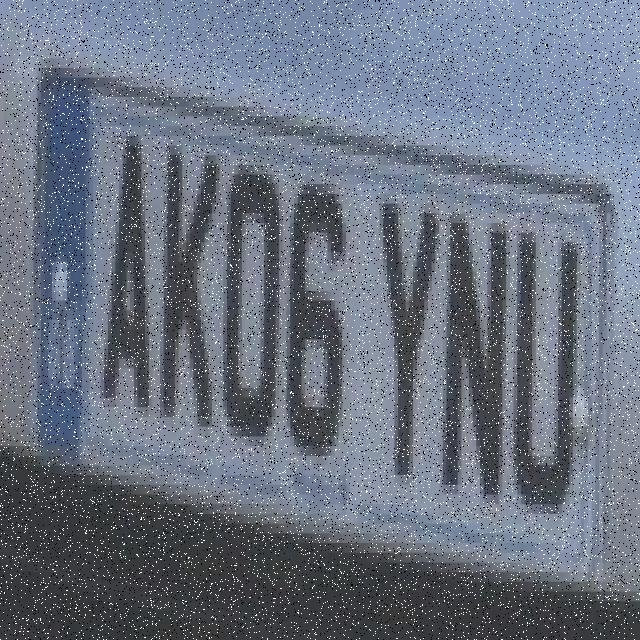licenseplate: (22, 56, 610, 577)
